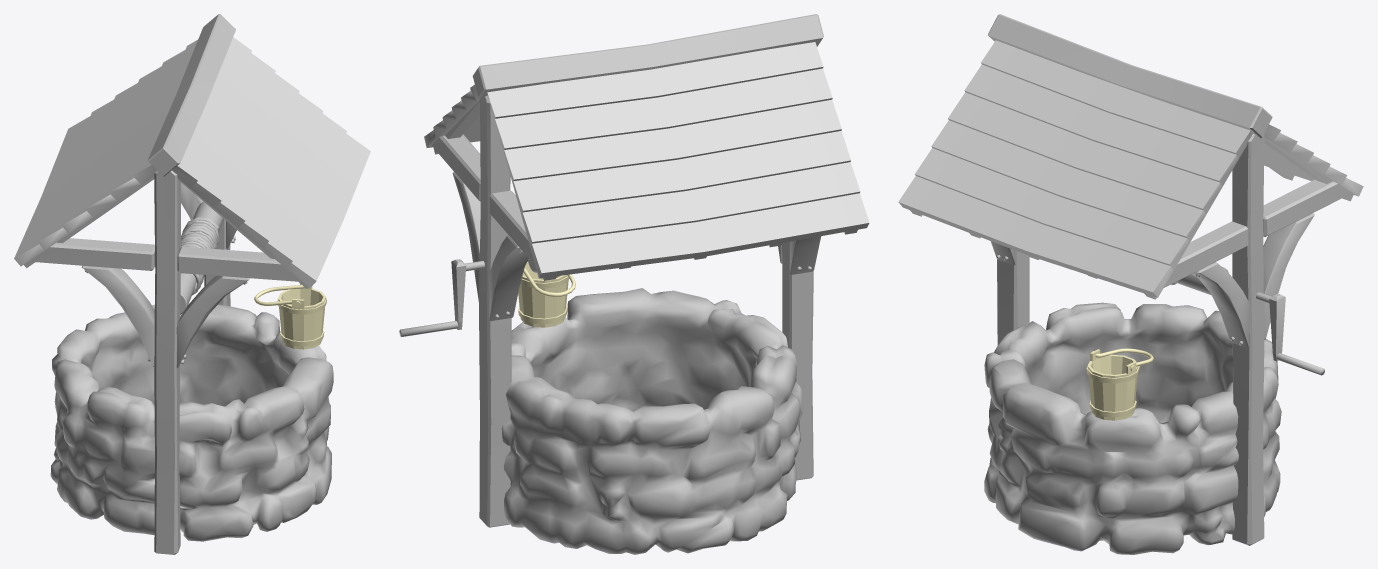
Rendered from wellp 1.fbx.
3 renders of one model, left to right at view 1: azimuth 30°, elevation 25°; view 2: azimuth 150°, elevation 25°; view 3: azimuth 270°, elevation 25°, orthographic. The views are drawn at different scales.
Visible parts, largest first — view 1: Well_LP.005, Well_LP, Well_LP.001, Well_LP.021; view 2: Well_LP.005, Well_LP, Well_LP.001, Well_LP.021; view 3: Well_LP.005, Well_LP, Well_LP.001, Well_LP.021.
Boxes of the visible parts, x1,y1,x2,y2 form: Well_LP.005: (24,14,333,554); Well_LP: (14,37,370,287); Well_LP.001: (254,283,326,349); Well_LP.021: (180,201,223,314); Well_LP.005: (427,14,869,554); Well_LP: (424,42,869,277); Well_LP.001: (518,261,575,327); Well_LP.021: (399,259,536,337); Well_LP.005: (898,14,1357,554); Well_LP: (898,40,1363,297); Well_LP.001: (1086,348,1153,420); Well_LP.021: (1170,267,1324,375).
Bounding box in the file's own units: 257 × 267 × 257.
